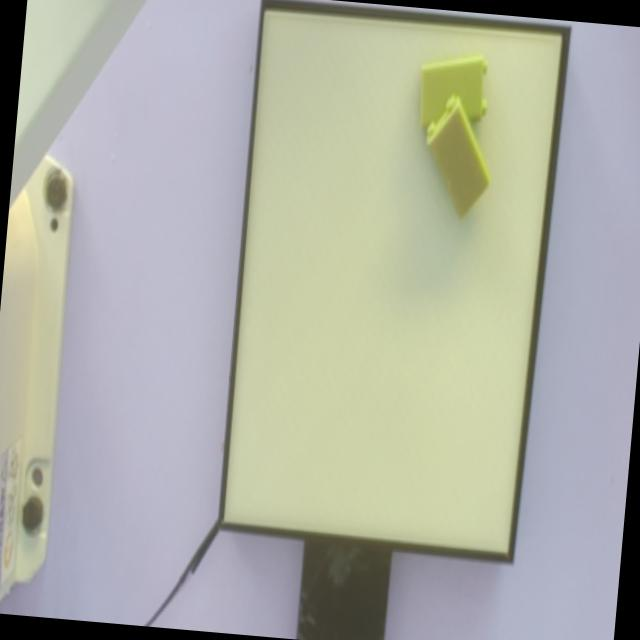bateria: (425, 94, 491, 222)
mesa: (217, 0, 571, 563)
